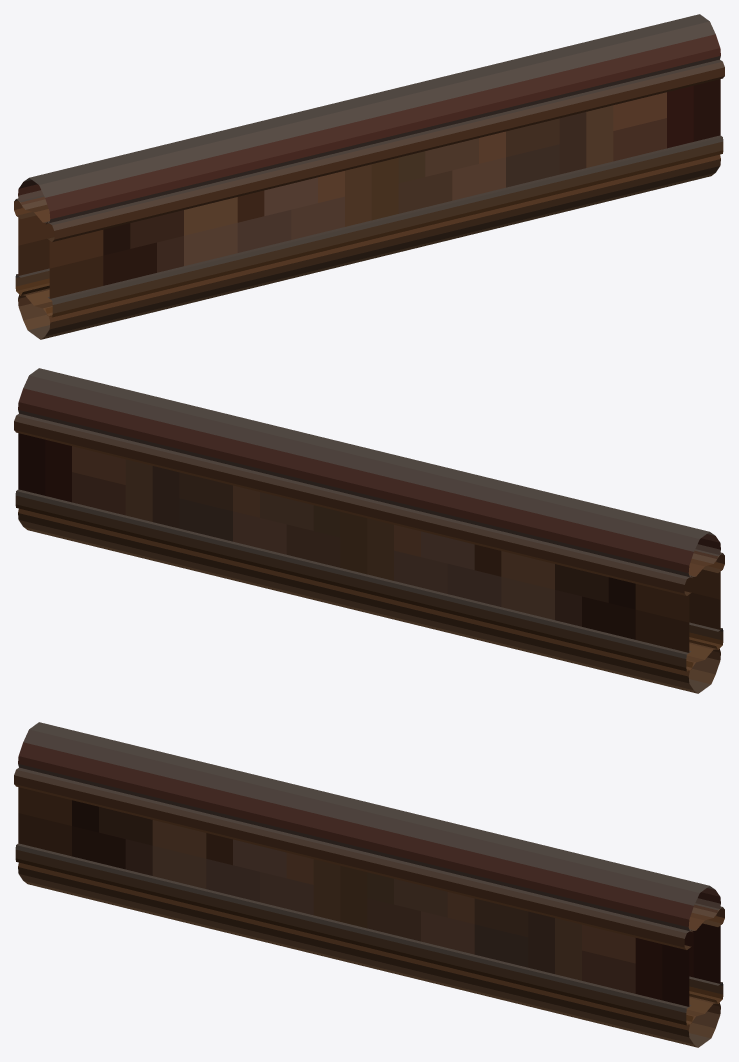
File: Wall_HomeA-TrimTopA-6m.fbx
3 views of the same model, one above another, from view 1: azimuth 30°, elevation 25°; view 2: azimuth 150°, elevation 25°; view 3: azimuth 330°, elevation 25° (orthographic).
Visible parts, largest first — view 1: Wall_HomeA-TrimTopA-6m; view 2: Wall_HomeA-TrimTopA-6m; view 3: Wall_HomeA-TrimTopA-6m.
Part boxes in pixels (bbox=[...]): Wall_HomeA-TrimTopA-6m: bbox=[14, 14, 724, 339]; Wall_HomeA-TrimTopA-6m: bbox=[14, 368, 724, 693]; Wall_HomeA-TrimTopA-6m: bbox=[14, 722, 724, 1047].
Size of the model in its own units: 600 by 131 by 62.3.
